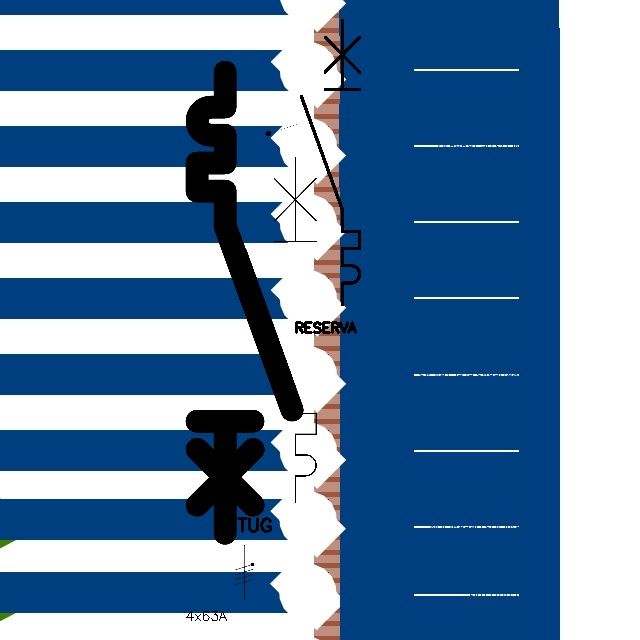interruptor_termomagnetico: (185, 60, 303, 545), (237, 148, 325, 510), (294, 13, 367, 312)
